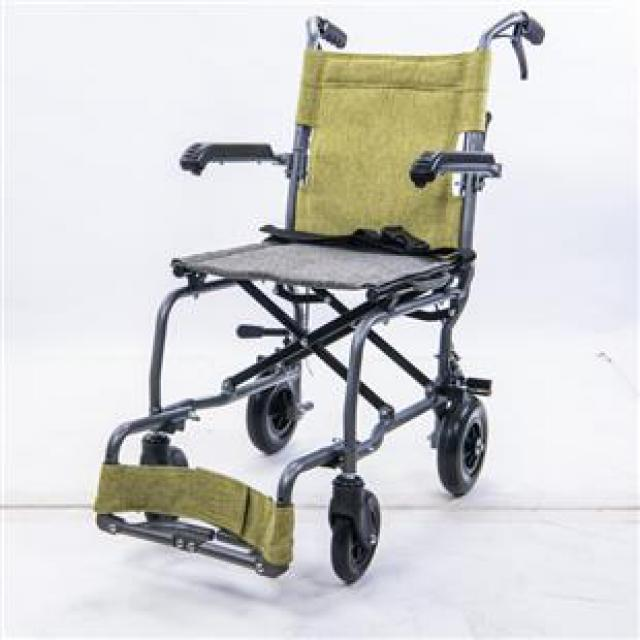wheelchair: (82, 4, 546, 580)
